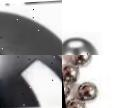ironball: (0, 1, 62, 55), (0, 55, 62, 107), (62, 32, 102, 55), (78, 81, 99, 100), (62, 64, 80, 83), (65, 55, 94, 66), (62, 75, 72, 100), (62, 97, 87, 107)
